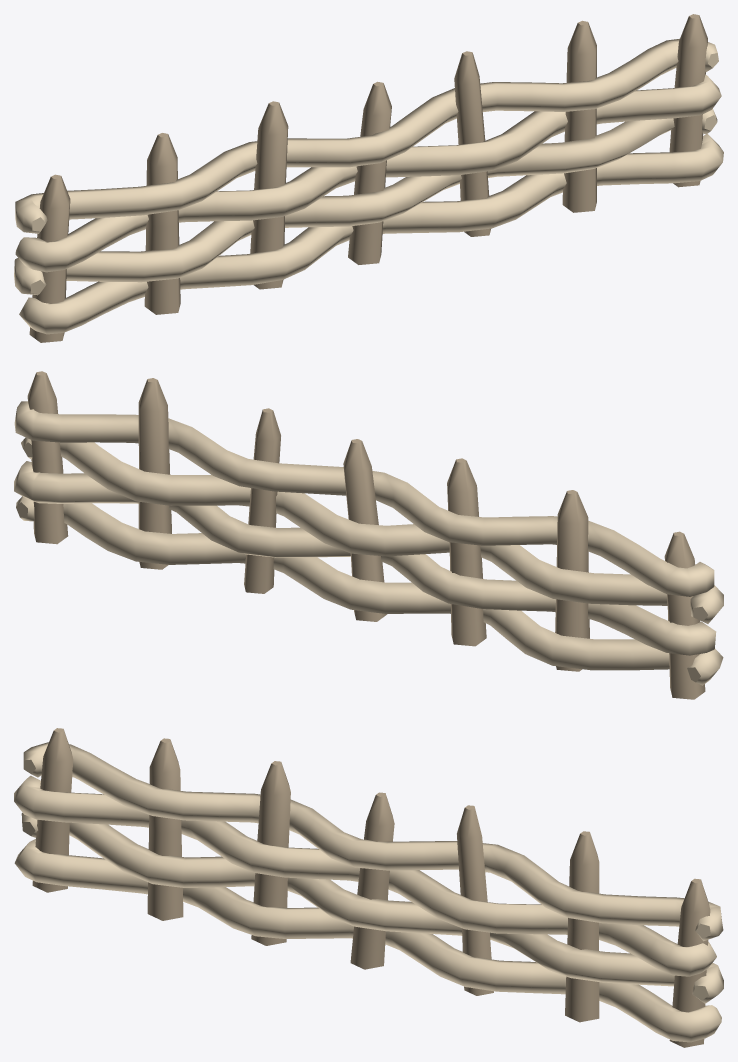
File: building.fence.glb
3 renders of one model, top to bottom at view 1: azimuth 30°, elevation 25°; view 2: azimuth 150°, elevation 25°; view 3: azimuth 330°, elevation 25°, orthographic.
Parts seen in each view (by area): view 1: Paint, PaintDark; view 2: Paint, PaintDark; view 3: Paint, PaintDark.
Part boxes in pixels (bbox=[...]): Paint: bbox=[14, 38, 723, 334]; PaintDark: bbox=[29, 14, 707, 342]; Paint: bbox=[14, 401, 723, 685]; PaintDark: bbox=[27, 371, 705, 699]; Paint: bbox=[14, 742, 723, 1042]; PaintDark: bbox=[32, 728, 710, 1047].
Bounding box in the file's own units: 2.01 × 0.4966 × 0.1983.
